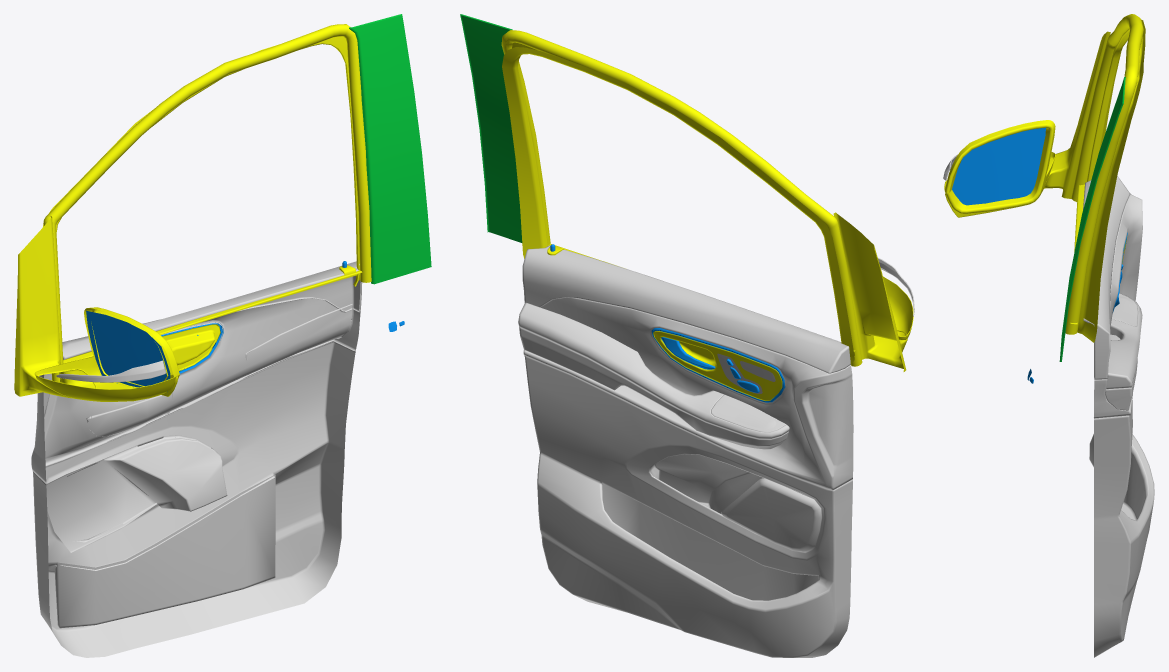
Rendered from Door_f_L_BODY_socket_door_fl.glb.
The picture shows the model from 3 angles, left to right: view 1: azimuth 30°, elevation 25°; view 2: azimuth 150°, elevation 25°; view 3: azimuth 270°, elevation 25°; orthographic projection. The views are drawn at different scales.
Visible parts, largest first — view 1: door007; view 2: door007; view 3: door007.
Boxes of the visible parts, <box> form: door007: <box>14,14,431,657</box>; door007: <box>460,14,914,657</box>; door007: <box>943,14,1154,657</box>.
Bounding box in the file's own units: 1.04 × 1.36 × 0.4186.
